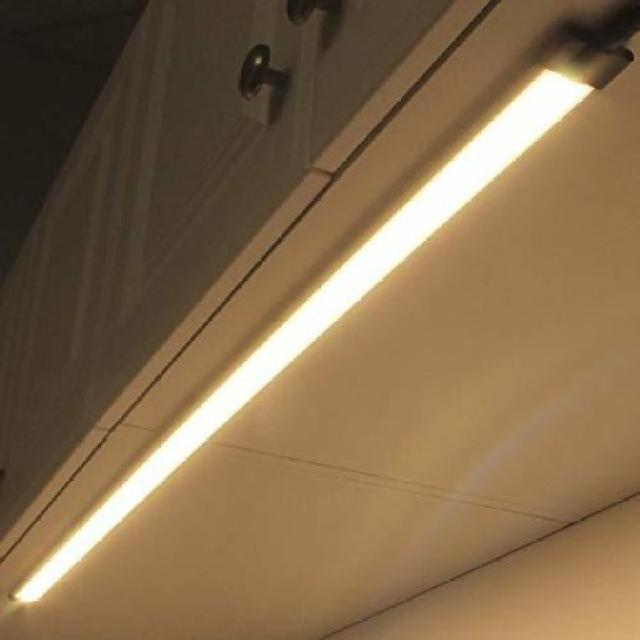tubelight_on: (5, 17, 640, 613)
